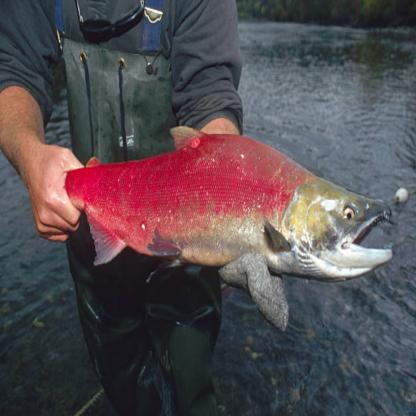sockeye: (70, 120, 391, 314)
